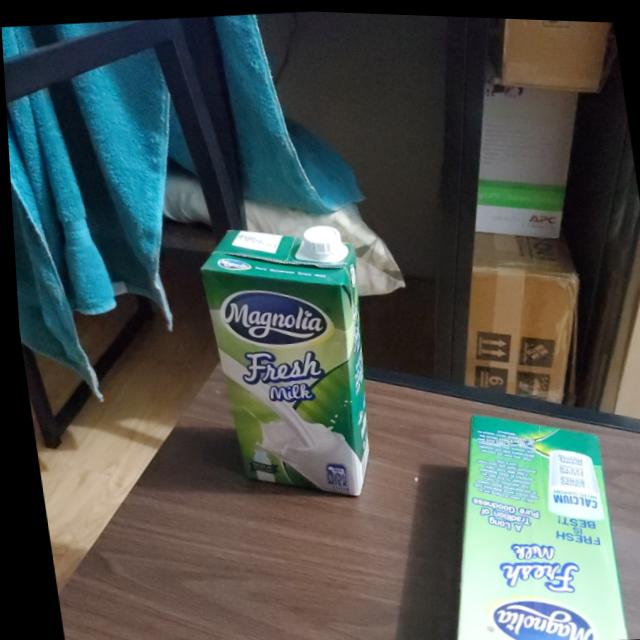milk: (192, 217, 390, 510), (413, 396, 623, 640)
